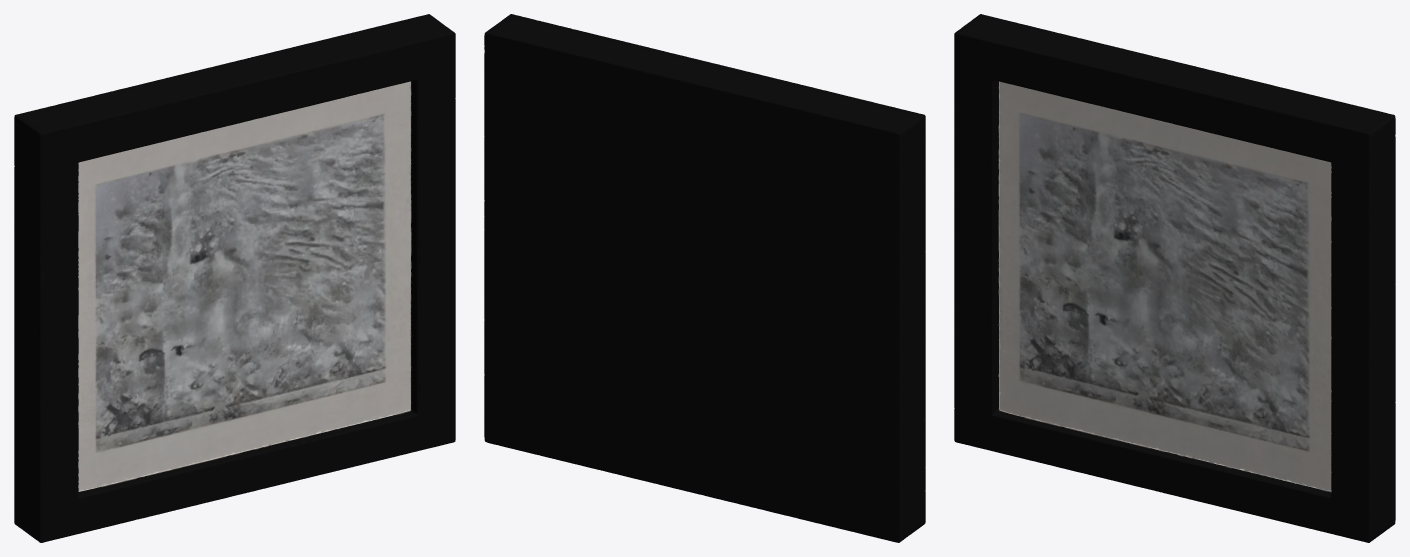
The model's file is B073NZFTH9.glb.
3 views of the same model, side by side, from view 1: azimuth 30°, elevation 25°; view 2: azimuth 150°, elevation 25°; view 3: azimuth 330°, elevation 25° (orthographic).
Visible parts, largest first — view 1: geometry_0; view 2: geometry_0; view 3: geometry_0.
Boxes of the visible parts, left/top/right/bottom form: geometry_0: left=14, top=14, right=455, bottom=542; geometry_0: left=484, top=14, right=925, bottom=542; geometry_0: left=954, top=14, right=1395, bottom=542.
Bounding box in the file's own units: 0.9974 × 0.9388 × 0.1083.
Materials: 1 (1 with a texture image).
